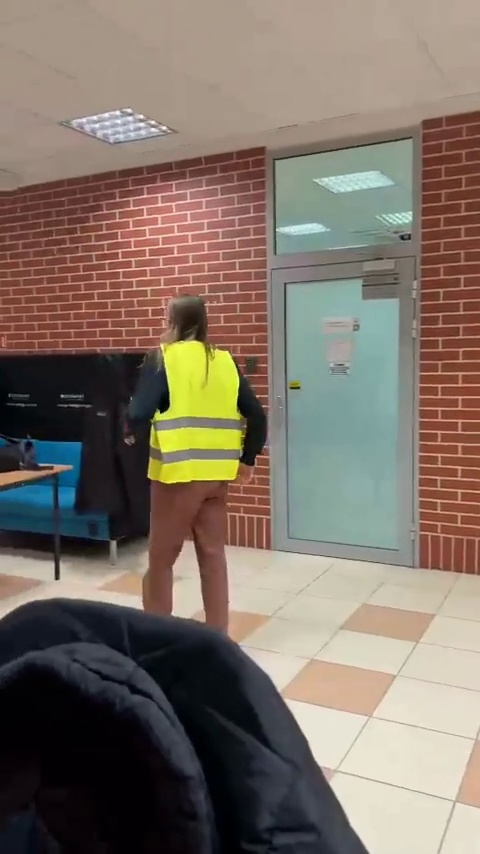vest: (130, 292, 266, 621)
